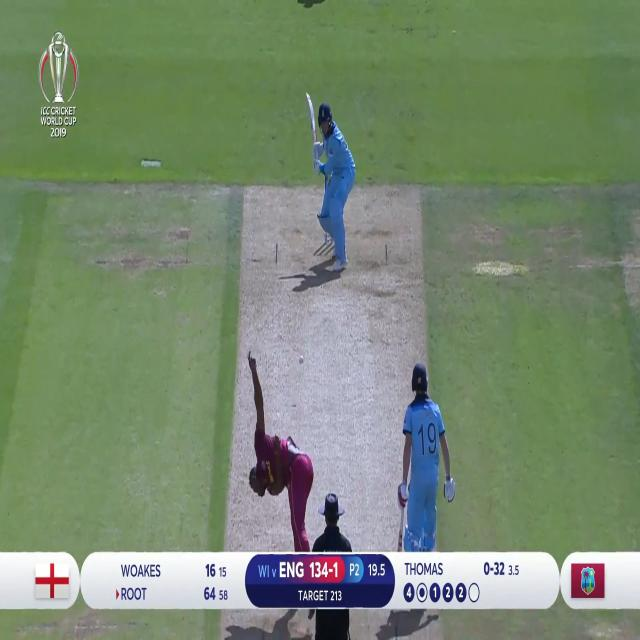ball: (297, 352, 306, 367)
